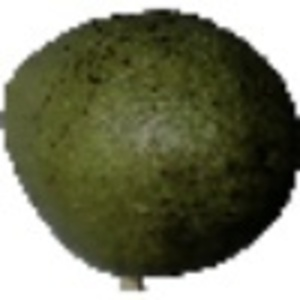abacate: (2, 2, 297, 280)
